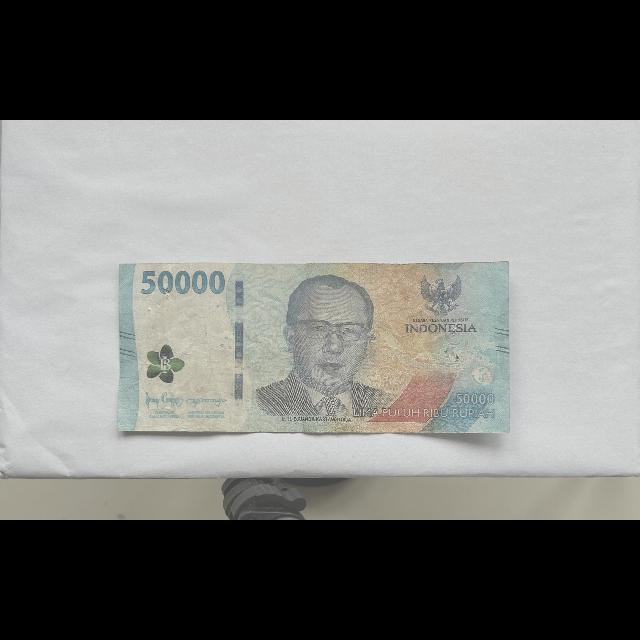Palsu-50k: (117, 260, 512, 435)
Tinta-Palsu-50k: (147, 344, 185, 384)
